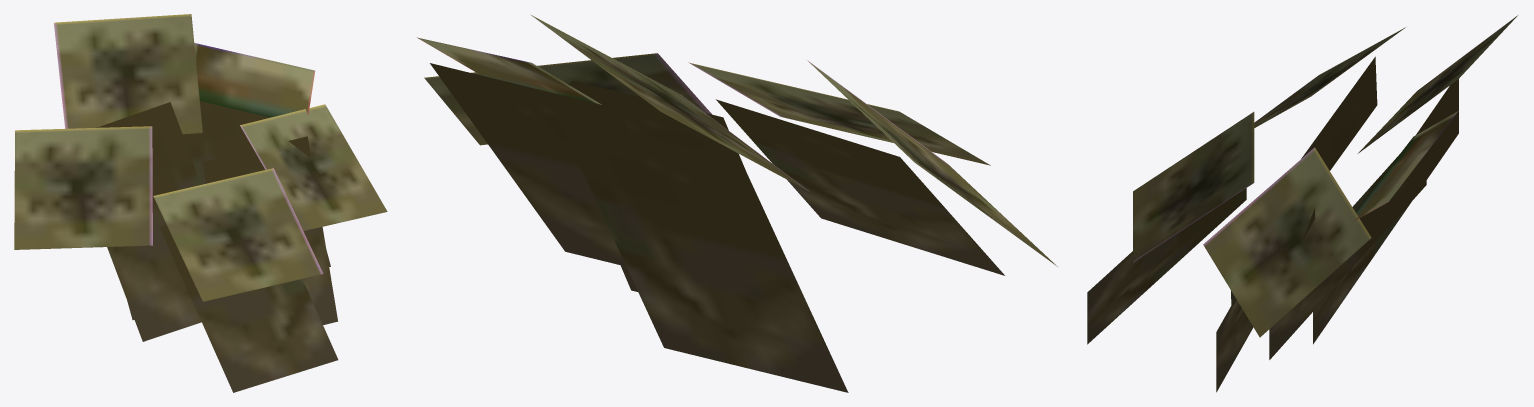
Rendered from flw_violet_x.dae.
3 views of the same model, side by side, from view 1: azimuth 30°, elevation 25°; view 2: azimuth 150°, elevation 25°; view 3: azimuth 270°, elevation 25° (orthographic). The views are drawn at different scales.
Parts seen in each view (by area): view 1: flw_violet_x; view 2: flw_violet_x; view 3: flw_violet_x.
Part boxes in pixels (x1=…): flw_violet_x: x1=14, y1=14, x2=387, y2=392; flw_violet_x: x1=417, y1=14, x2=1057, y2=392; flw_violet_x: x1=1087, y1=15, x2=1517, y2=392.
Bounding box in the file's own units: 29.91 × 19.78 × 26.85.
Materials: 1 (1 with a texture image).
